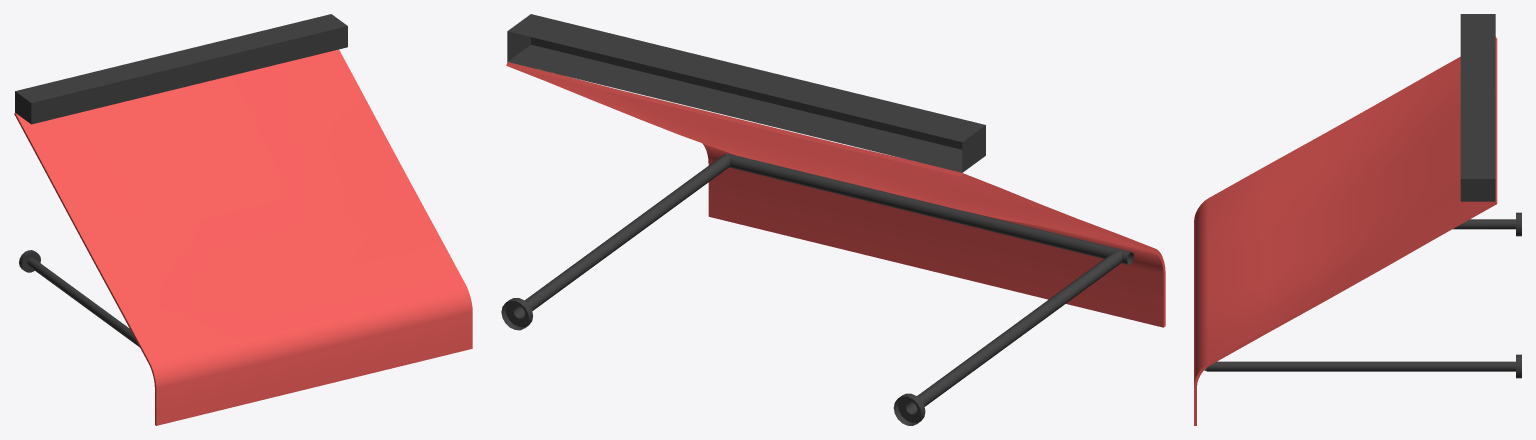
File: object_B3_GF_awning_2.glb
3 views of the same model, side by side, from view 1: azimuth 30°, elevation 25°; view 2: azimuth 150°, elevation 25°; view 3: azimuth 270°, elevation 25° (orthographic). The views are drawn at different scales.
Parts seen in each view (by area): view 1: B3 GF awning 2; view 2: B3 GF awning 2; view 3: B3 GF awning 2.
Boxes of the visible parts, x1,y1,x2,y2 form: B3 GF awning 2: [14, 14, 472, 425]; B3 GF awning 2: [501, 14, 1165, 425]; B3 GF awning 2: [1194, 14, 1521, 425].
Bounding box in the file's own units: 1.29 × 0.9033 × 1.09.
